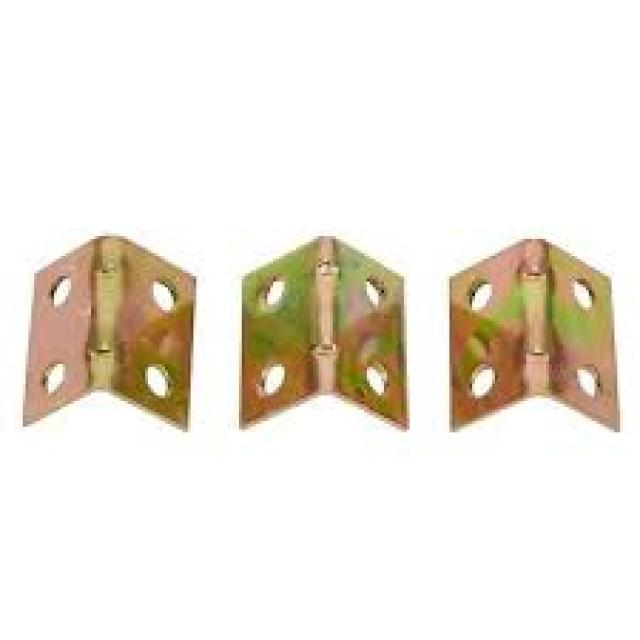holes: (466, 358, 502, 399), (138, 358, 175, 395), (256, 358, 288, 396), (571, 358, 600, 399), (568, 271, 597, 312), (464, 277, 496, 314), (148, 278, 180, 314), (260, 277, 288, 312), (362, 358, 388, 393), (359, 274, 385, 307), (41, 361, 67, 388), (48, 277, 70, 306)
